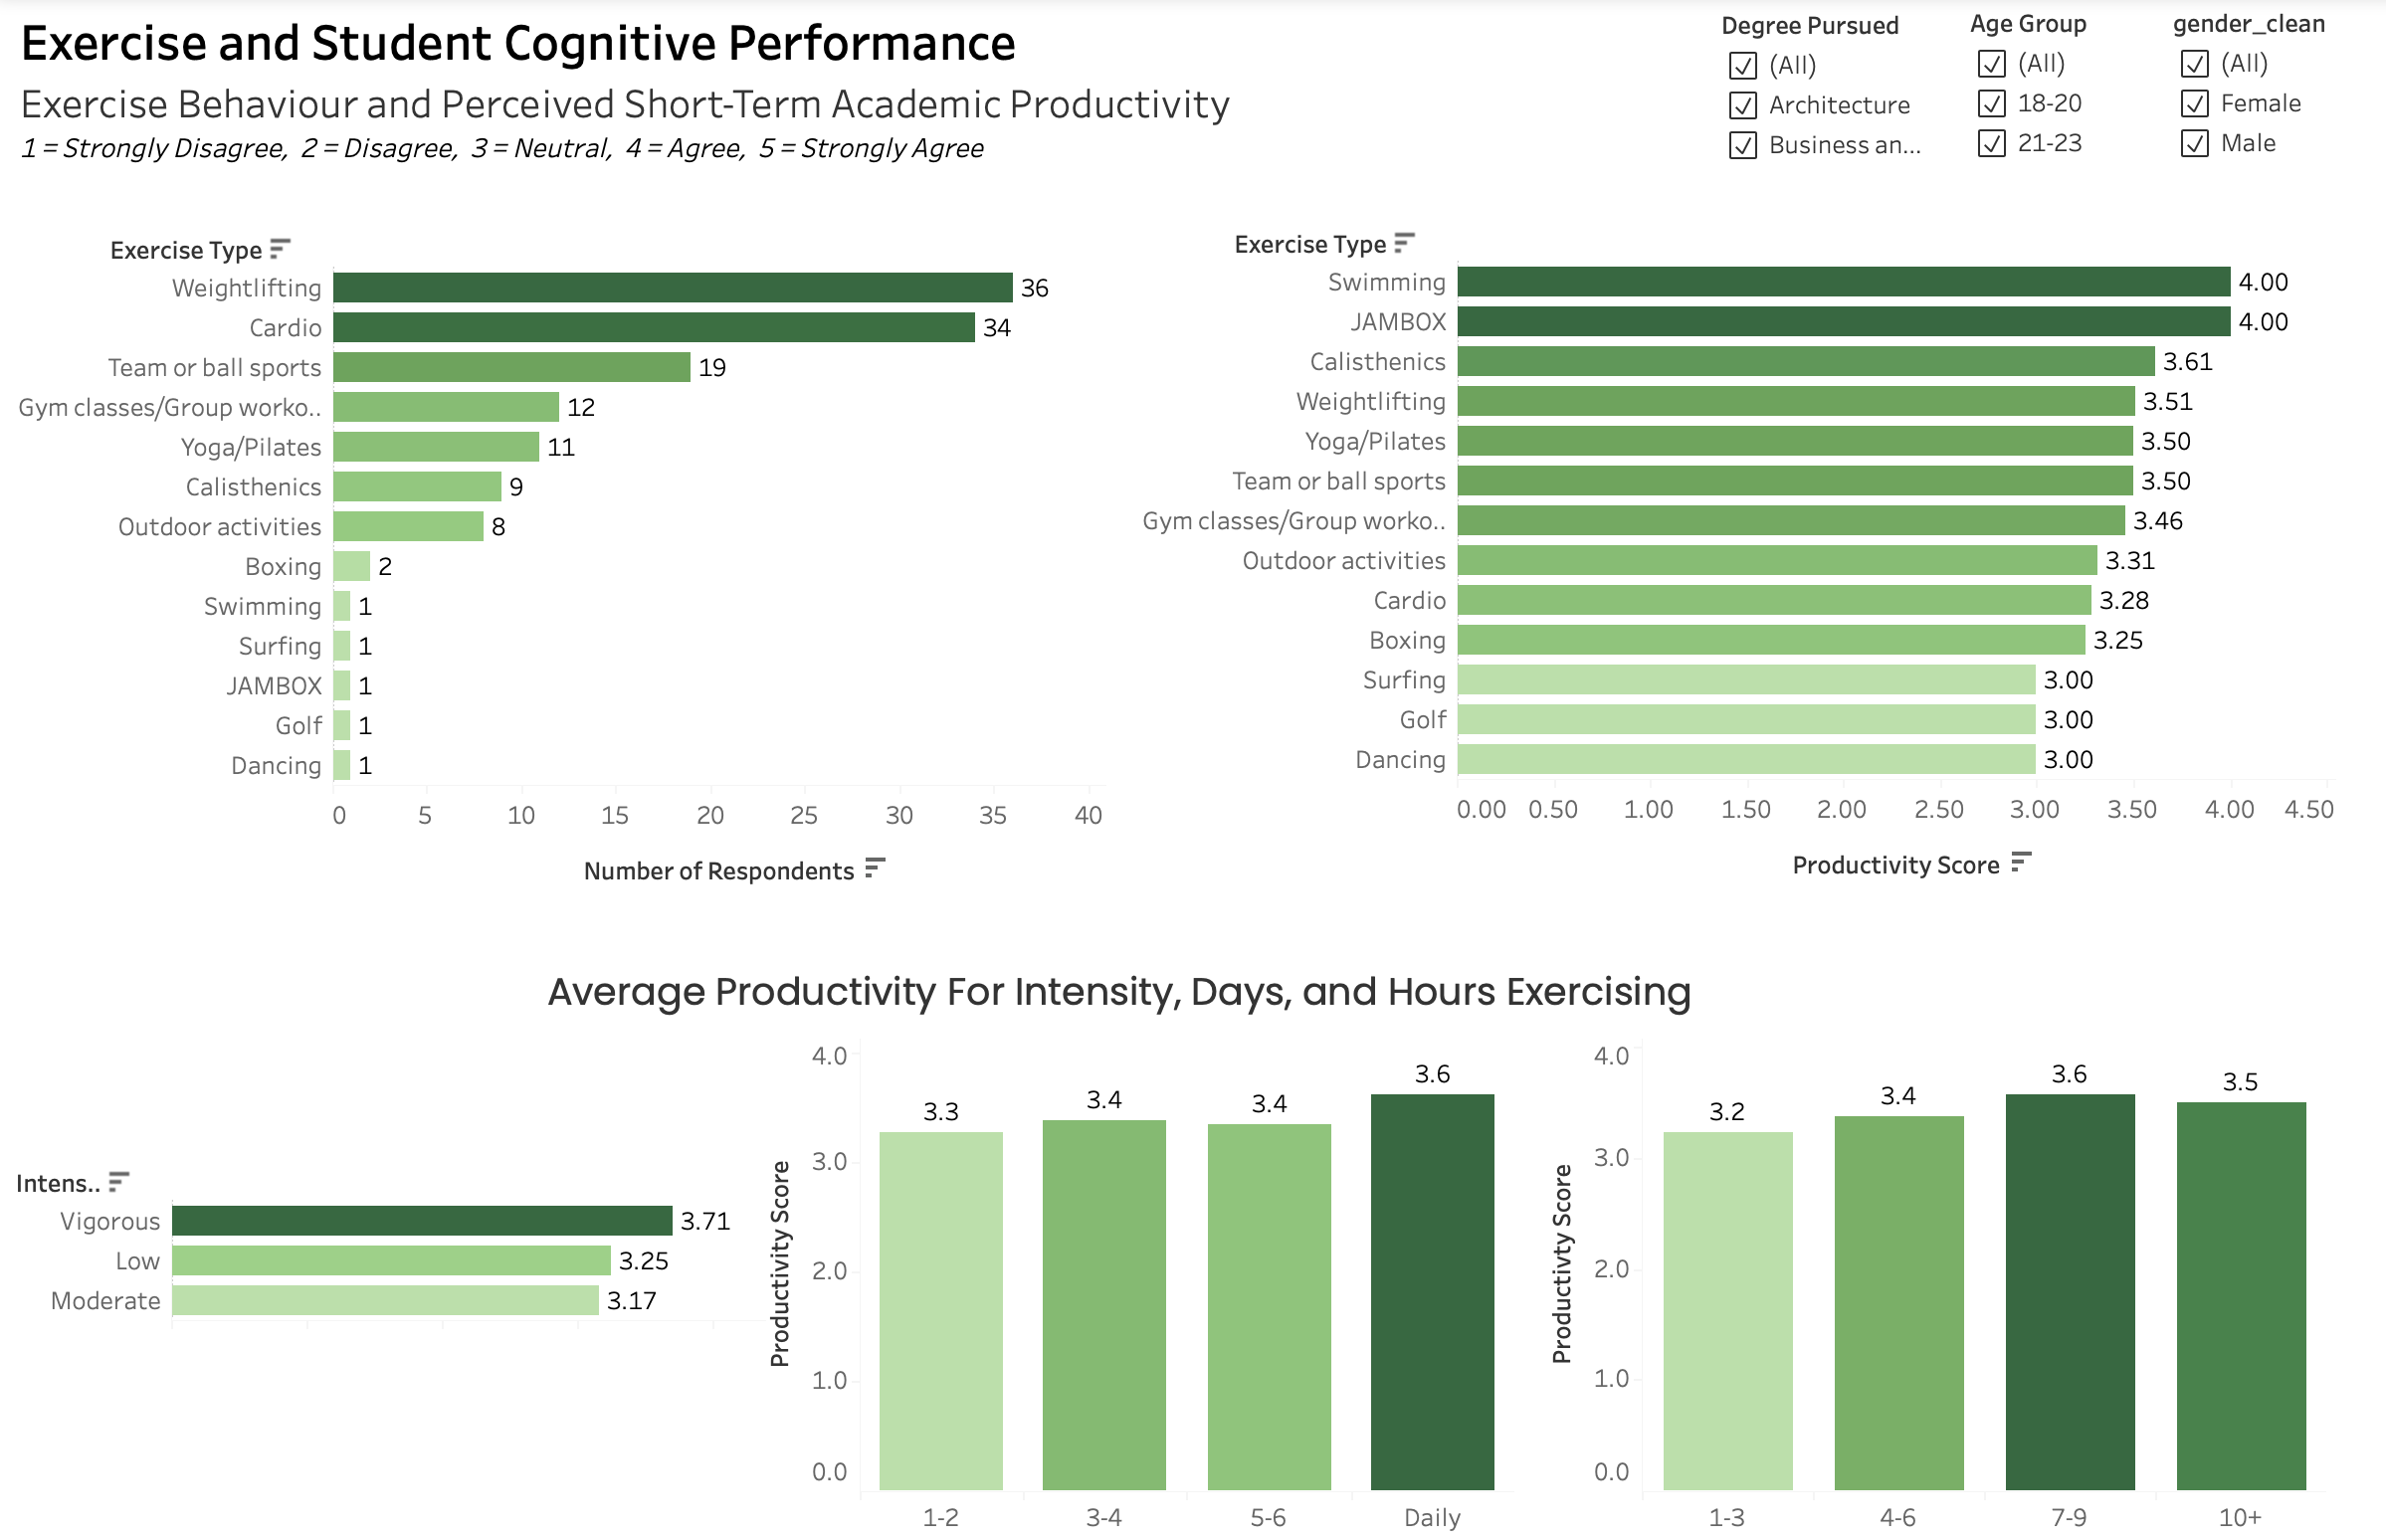

Layout of this report page (visuals, bound fields, positions):
{"tool":"tableau","page":{"name":"Exercise Behaviour and Academic Productivity","canvas":[1200,800],"ordinal":1},"visuals":[{"type":"title","box":[8,8,1184,98]},{"type":"filter","title":"resp_exercise_type","param":"[federated.0rytt0715t6ozk1b7npcw0uq4gav].[none:Calculation_0001148241506358:nk]","box":[992,15,101,82]},{"type":"filter","title":"exercise_type_prod","param":"[federated.0rytt0715t6ozk1b7npcw0uq4gav].[none:Calculation_0001078958084104:nk]","box":[1094,15,97,83]},{"type":"filter","title":"resp_exercise_type","param":"[federated.0rytt0715t6ozk1b7npcw0uq4gav].[none:Calculation_0001148241850423:nk]","box":[867,16,123,80]},{"type":"text","box":[8,106,1184,343]},{"type":"worksheet","title":"exercise_type_prod","mark":"Automatic","rows":["exercise_type"],"cols":["productivty_score"],"box":[574,124,602,341]},{"type":"worksheet","title":"resp_exercise_type","mark":"Automatic","rows":["exercise_type"],"cols":["respondent_id"],"box":[9,127,549,337]},{"type":"text","box":[8,449,1184,343]},{"type":"text","box":[277,483,590,56]},{"type":"worksheet","title":"prod_by_days","mark":"Automatic","rows":["productivty_score"],"cols":["exercise_days_group"],"box":[378,535,385,249]},{"type":"worksheet","title":"prod_by_hours","mark":"Automatic","rows":["productivty_score"],"cols":["exercise_hours_group"],"box":[771,535,400,249]},{"type":"worksheet","title":"intensity","mark":"Automatic","rows":["intensity"],"cols":["productivty_score"],"box":[8,596,379,142]}]}

Visuals, with their boxes on the page's 1200x800 design canvas (x1, y1, x2, y2). These are canvas units, not pixel positions in the 2386x1540 screenshot, which may show the page scaled, cropped or inside an application window:
title: rect(8, 8, 1192, 106)
"resp_exercise_type" filter: rect(992, 15, 1093, 97)
"exercise_type_prod" filter: rect(1094, 15, 1191, 98)
"resp_exercise_type" filter: rect(867, 16, 990, 96)
text: rect(8, 106, 1192, 449)
"exercise_type_prod" worksheet: rect(574, 124, 1176, 465)
"resp_exercise_type" worksheet: rect(9, 127, 558, 464)
text: rect(8, 449, 1192, 792)
text: rect(277, 483, 867, 539)
"prod_by_days" worksheet: rect(378, 535, 763, 784)
"prod_by_hours" worksheet: rect(771, 535, 1171, 784)
"intensity" worksheet: rect(8, 596, 387, 738)
